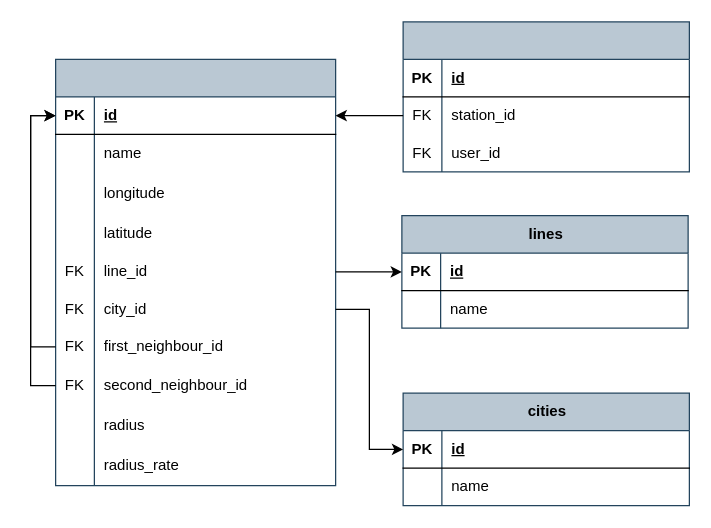
The diagram is 711 pixels wide and 528 high, and some of its shapes have lost their labels. The box of each missing label's shape, as (x1, y1, x2, y2) in pixels:
stations: (54, 58, 336, 486)
user_favourite_stations: (402, 21, 689, 172)
